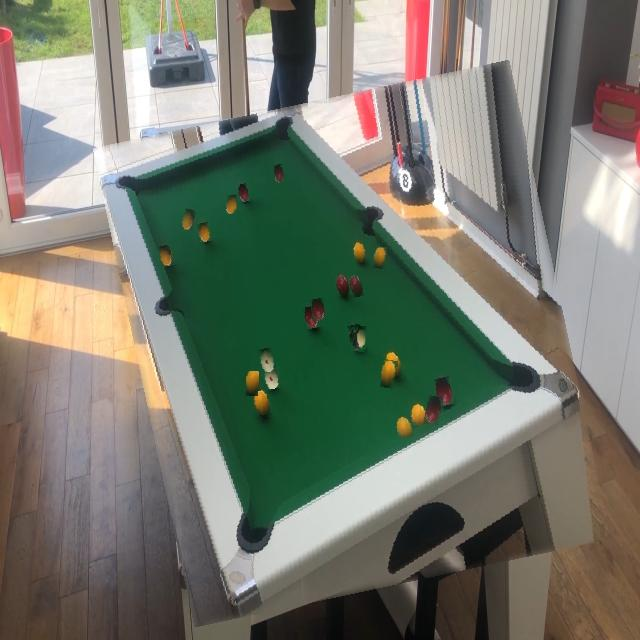Ball: (425, 396, 442, 424), (382, 360, 398, 388), (395, 416, 412, 439), (259, 348, 275, 372), (352, 326, 366, 352), (311, 299, 327, 321), (372, 246, 387, 269), (246, 372, 259, 398), (349, 274, 363, 298), (182, 208, 196, 230), (226, 195, 237, 214), (273, 165, 284, 183)
Billiard table: (116, 80, 588, 608)
